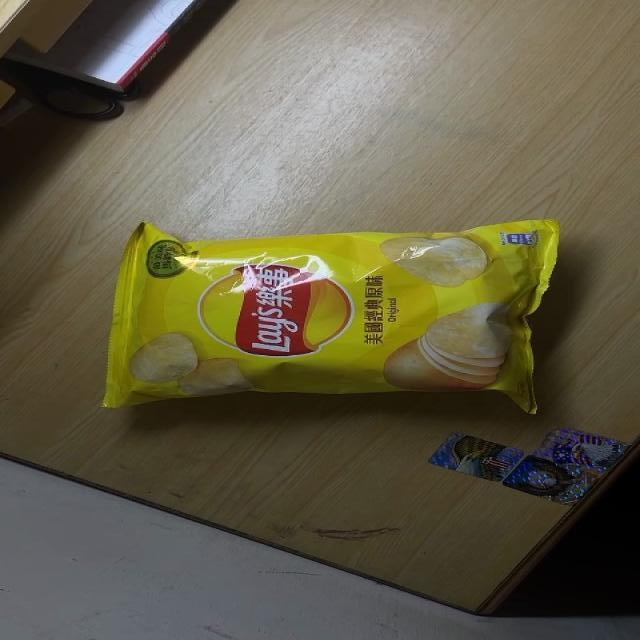Lay-s-original: (94, 217, 566, 414)
